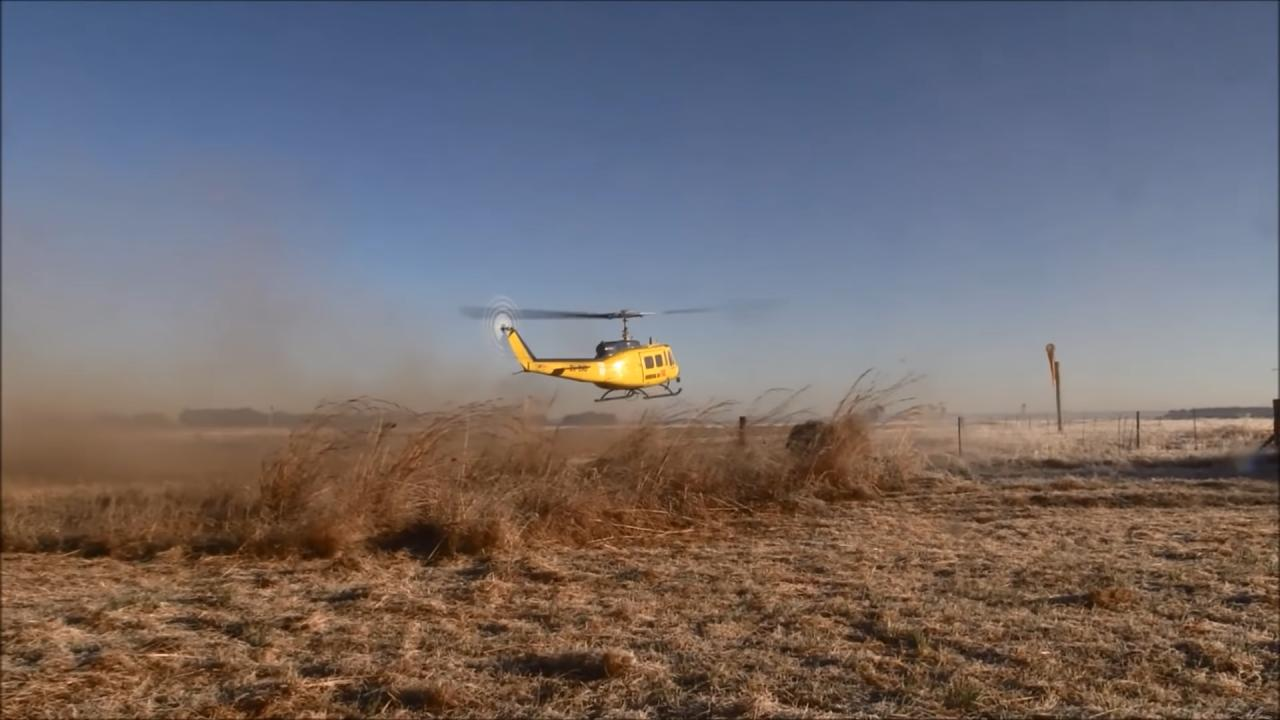Helicopter: (446, 292, 794, 412)
